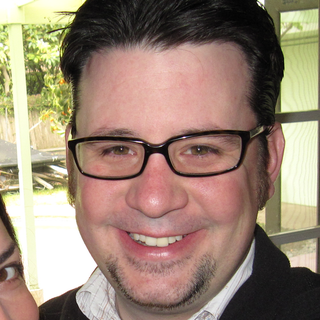eye: (95, 136, 136, 161), (177, 142, 224, 161)
